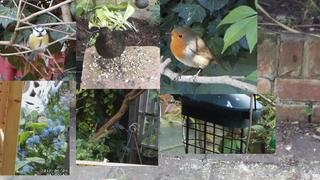blackbird: (94, 27, 133, 76)
blue tit: (26, 25, 49, 61)
robin: (165, 27, 231, 86)
